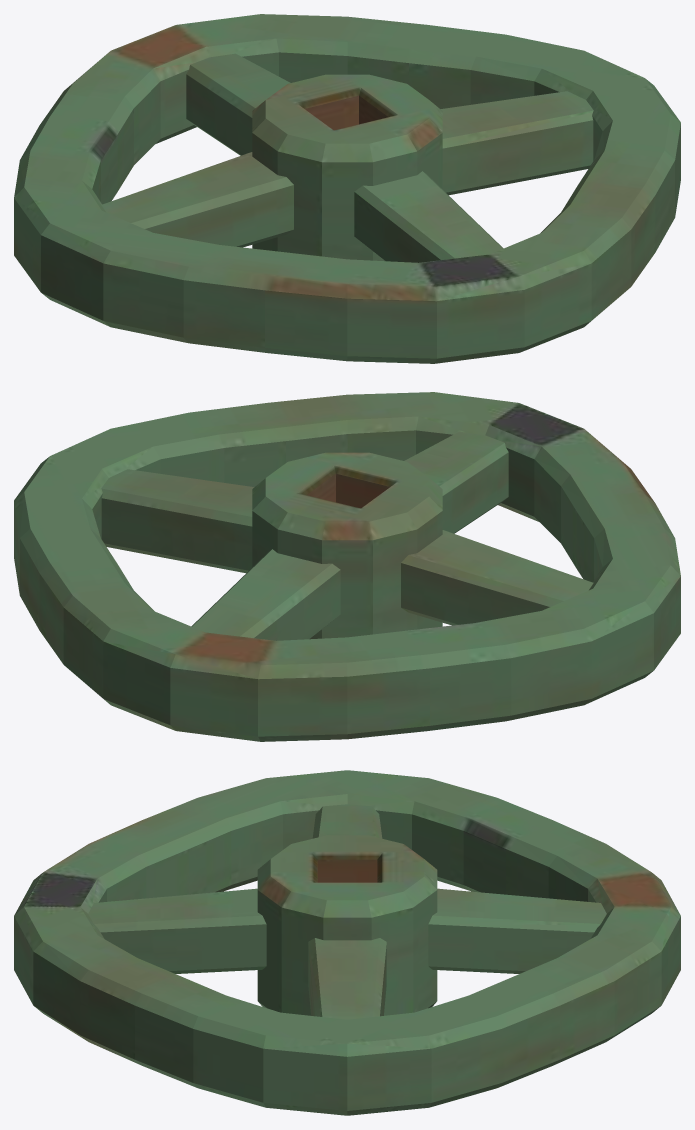
The model's file is P20_colored_valve_handles_v3.glb.
3 renders of one model, top to bottom at view 1: azimuth 30°, elevation 25°; view 2: azimuth 150°, elevation 25°; view 3: azimuth 270°, elevation 25°, orthographic. The views are drawn at different scales.
Visible parts, largest first — view 1: Valve handwheel; view 2: Valve handwheel; view 3: Valve handwheel.
Part boxes in pixels (left/top/right/bottom): Valve handwheel: left=14, top=14, right=680, bottom=363; Valve handwheel: left=14, top=392, right=680, bottom=741; Valve handwheel: left=14, top=770, right=680, bottom=1115.
Size of the model in its own units: 0.2 by 0.0448 by 0.2.
4 materials, 4 textured.
